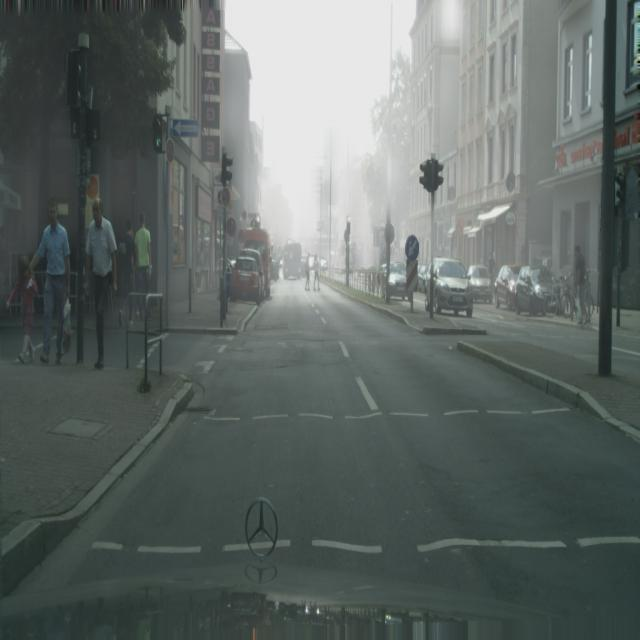bus: (29, 198, 71, 364), (85, 199, 118, 370), (6, 254, 38, 364), (117, 218, 137, 327), (134, 211, 152, 319), (572, 244, 586, 320), (488, 251, 496, 297), (313, 256, 320, 291), (304, 256, 311, 291)
car: (240, 229, 271, 298), (283, 241, 303, 280)
person: (425, 257, 473, 318), (515, 266, 556, 316), (230, 252, 263, 304), (494, 263, 522, 311), (466, 264, 492, 304), (383, 261, 407, 302)
